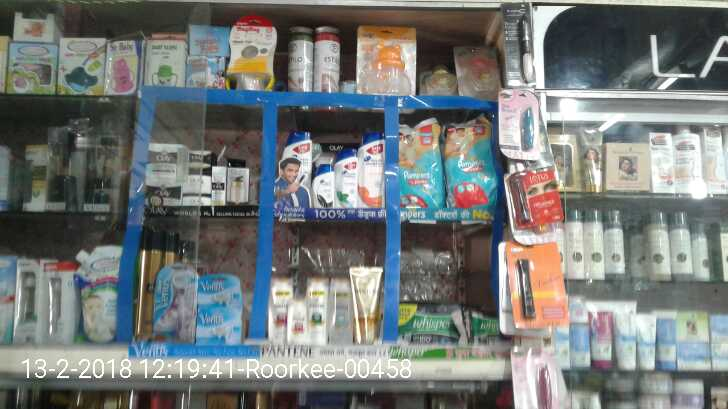venus: (154, 264, 196, 339), (196, 276, 241, 341)
